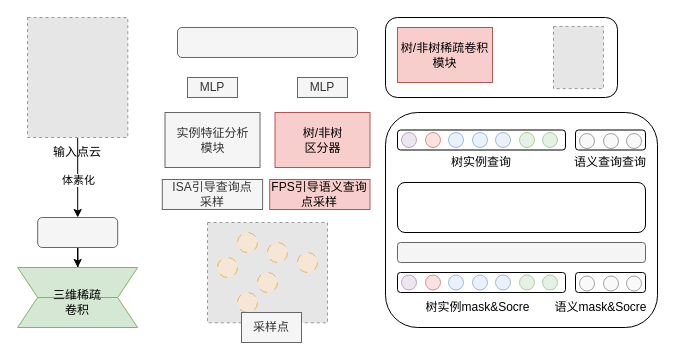
Image size: 675x360. Some labels were removed from this diagram. Grey dashed boxes stand in for pictures. Here are the shapes that lost their labels. From the top down, the box of each, then its label:
(176, 26, 358, 58): 稀疏特征张量
(396, 182, 646, 232): Transformer 解码器 层数*6
(37, 216, 118, 248): 稀疏张量
(396, 242, 646, 262): One-to-many association
